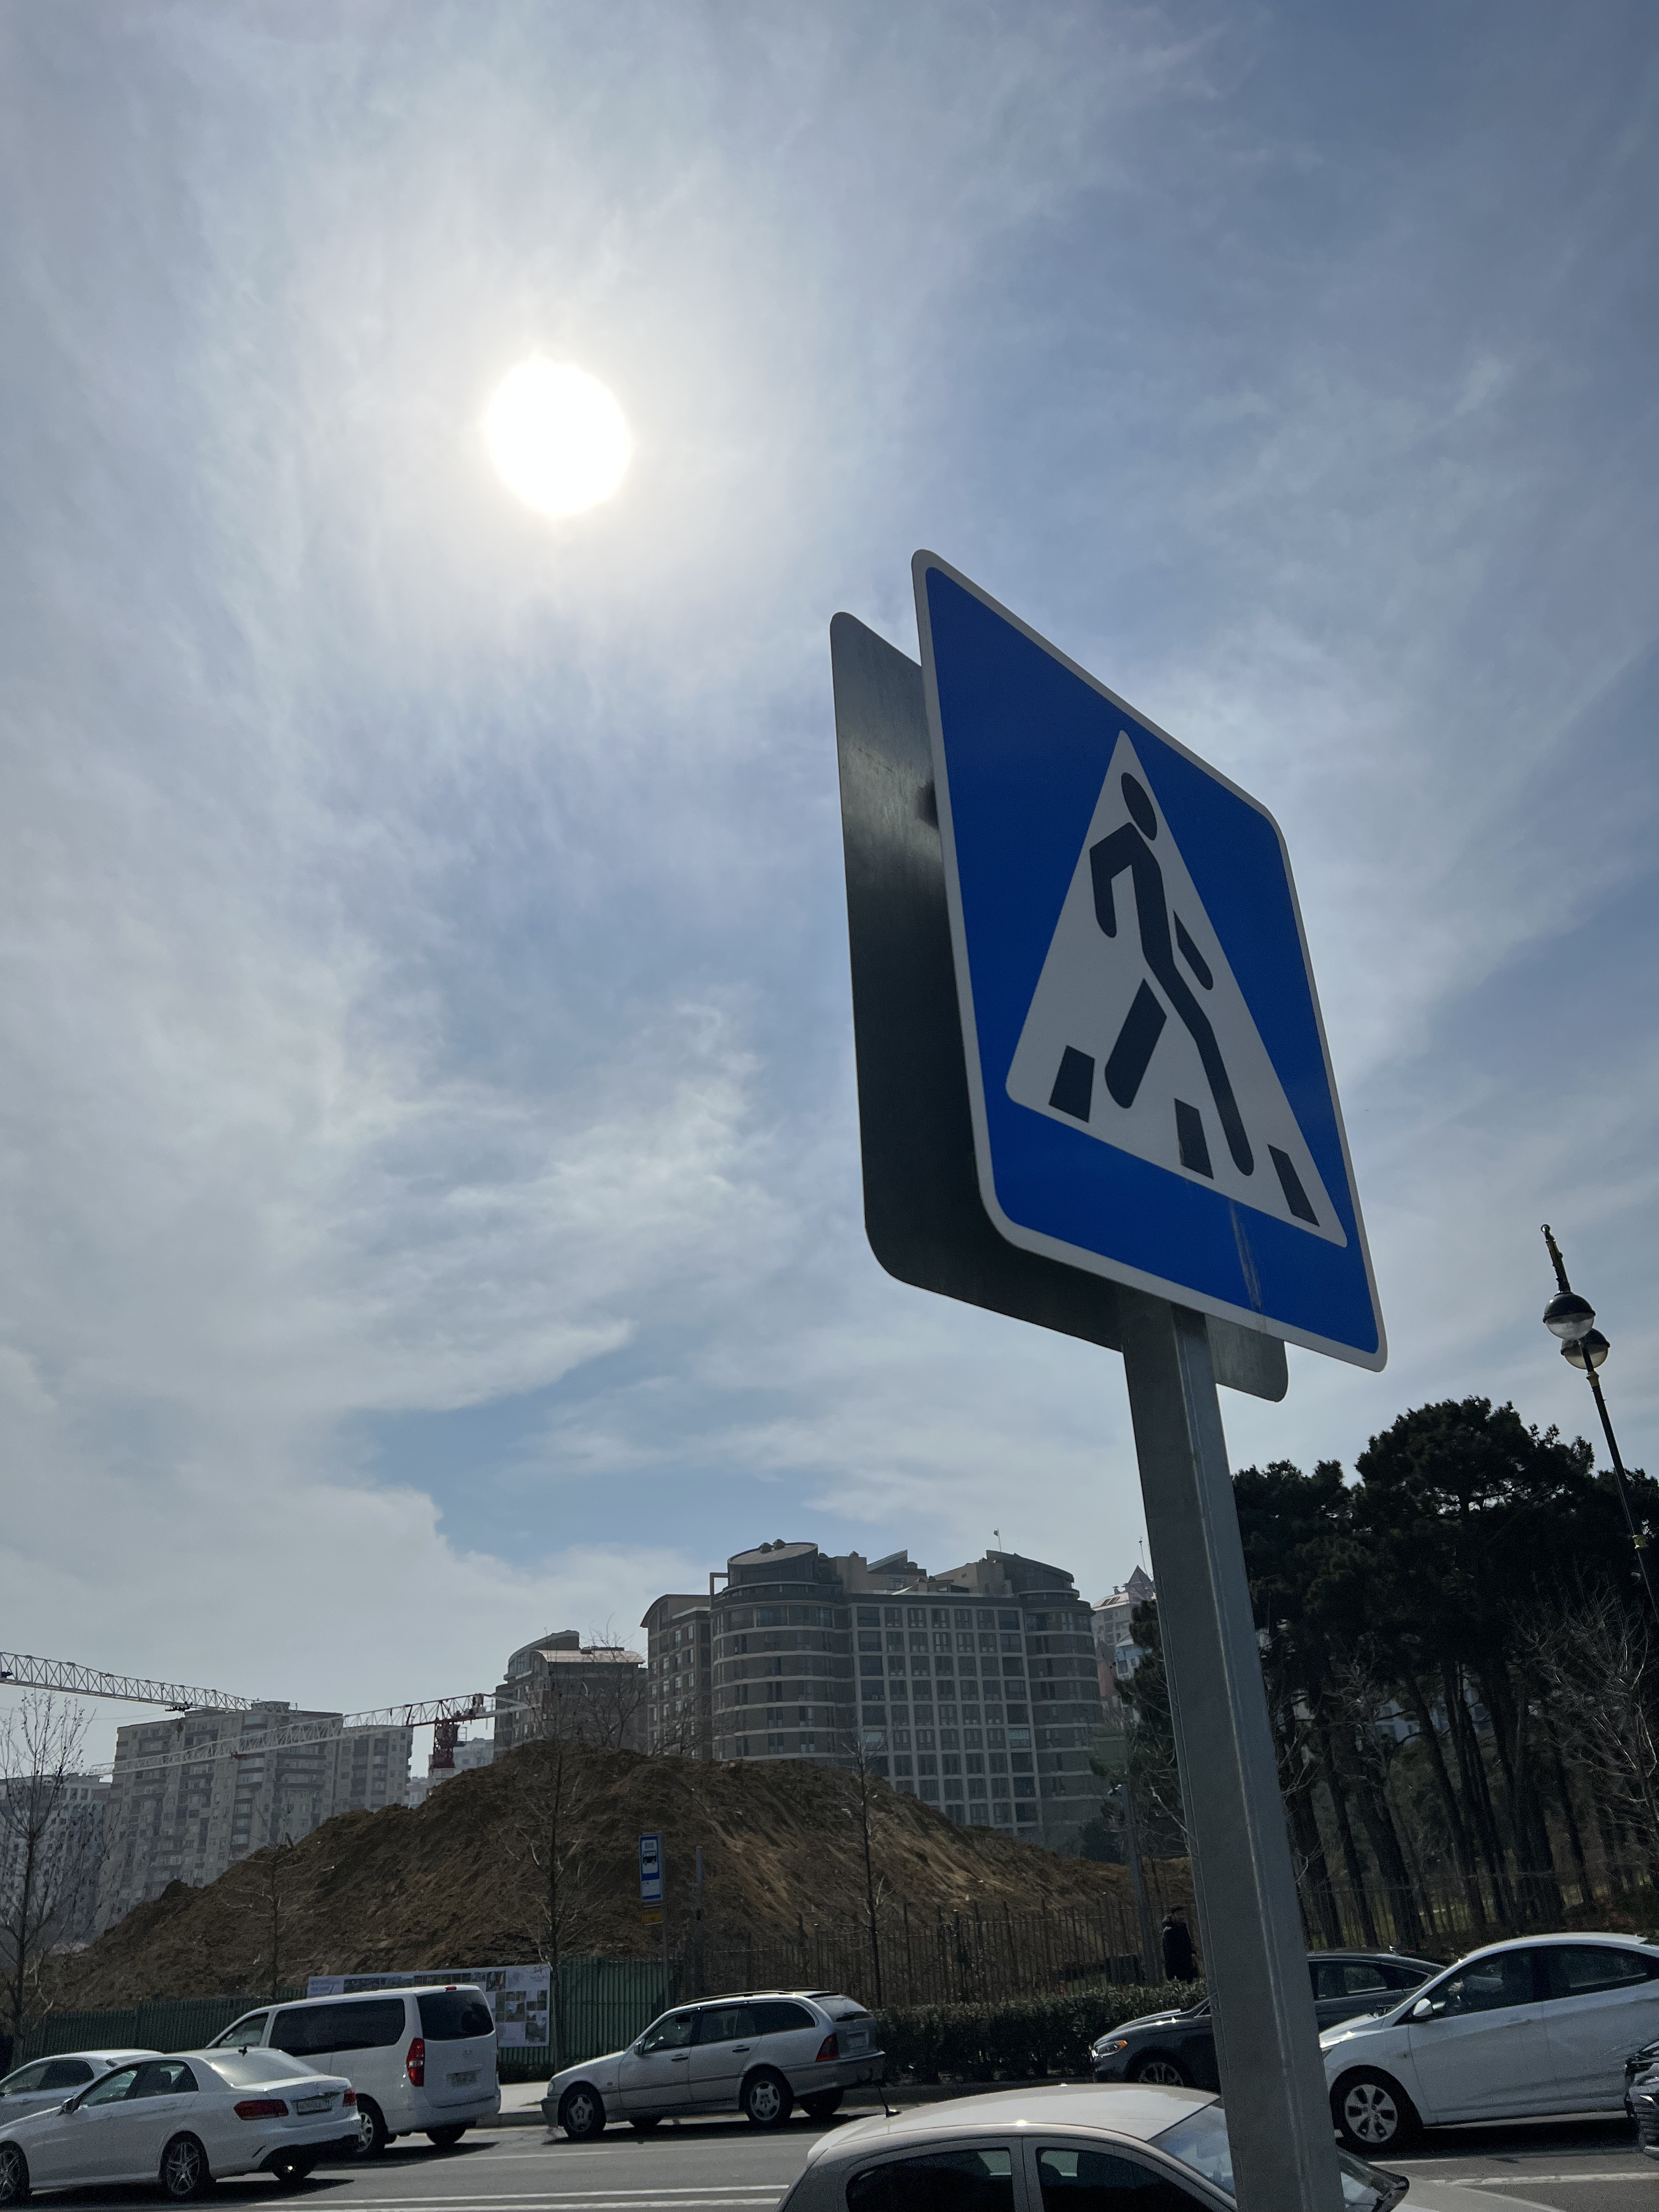Pedestrian Crossing: (920, 552, 1392, 1371)
